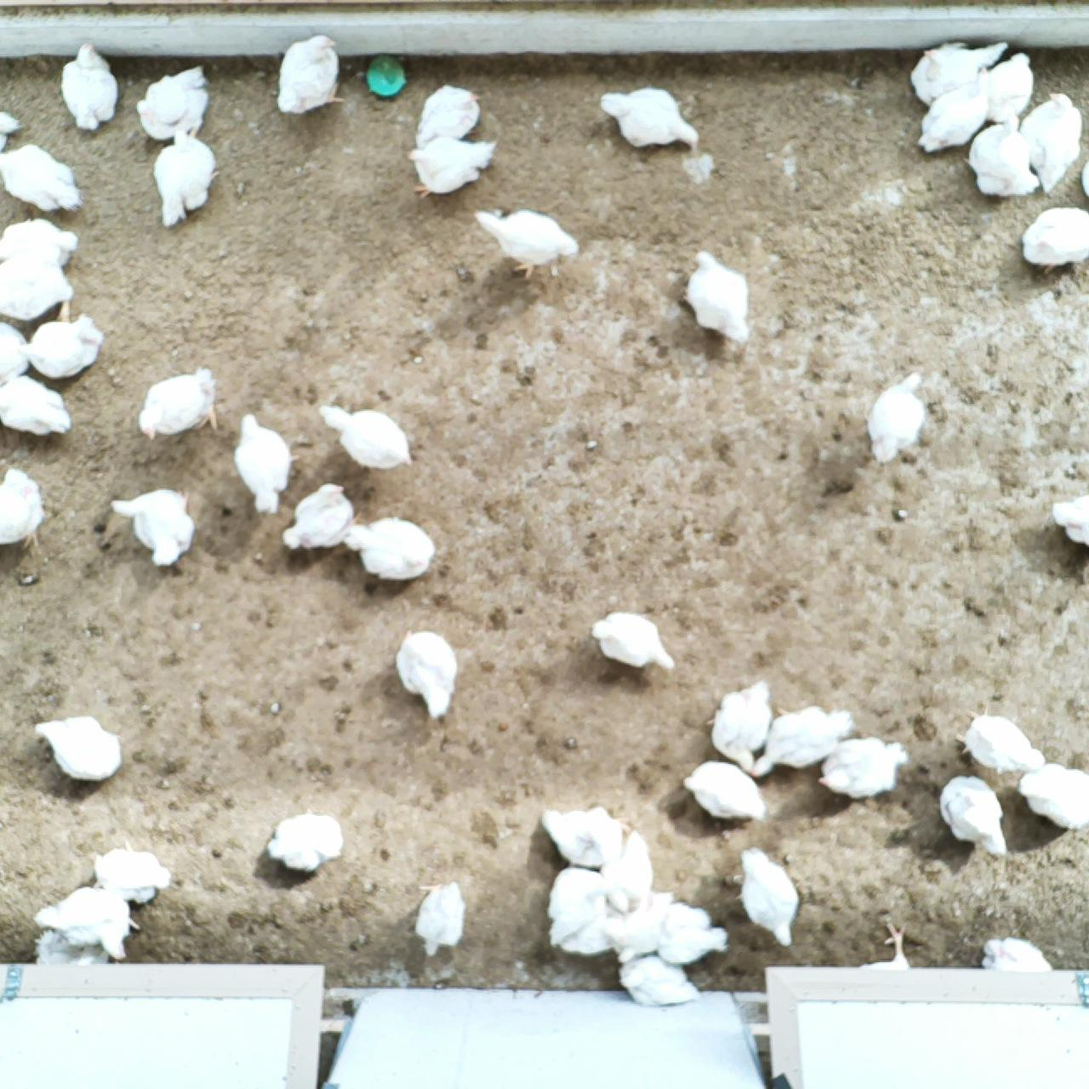chicken: (470, 201, 584, 283), (30, 880, 145, 960), (751, 700, 860, 781), (675, 245, 757, 351), (729, 840, 805, 951), (108, 481, 201, 569), (231, 408, 303, 520), (151, 125, 224, 234), (946, 699, 1048, 777), (914, 63, 995, 160), (858, 361, 932, 466), (314, 400, 416, 475), (596, 85, 702, 157), (698, 678, 777, 774), (813, 731, 912, 804), (1019, 88, 1085, 197), (935, 771, 1012, 863), (402, 134, 501, 205), (908, 38, 1011, 106), (32, 713, 125, 788), (536, 800, 631, 873), (341, 515, 439, 585), (394, 622, 463, 721), (968, 108, 1042, 198), (279, 479, 364, 557), (138, 365, 224, 442), (273, 31, 348, 119), (0, 141, 88, 215), (15, 312, 108, 382), (681, 756, 770, 829), (134, 62, 213, 144), (547, 862, 627, 942), (1010, 201, 1089, 280), (1012, 755, 1089, 835), (59, 37, 121, 136), (85, 836, 175, 904), (596, 823, 661, 916), (589, 609, 677, 675), (603, 889, 678, 964), (0, 251, 76, 324), (265, 804, 345, 873), (612, 954, 700, 1013), (416, 79, 485, 152), (0, 373, 74, 440), (413, 876, 470, 962), (658, 903, 733, 966), (982, 49, 1039, 125), (0, 216, 81, 268), (0, 466, 47, 553), (977, 930, 1054, 978), (31, 926, 109, 966), (1044, 487, 1089, 552), (557, 913, 623, 955), (0, 321, 31, 385)
